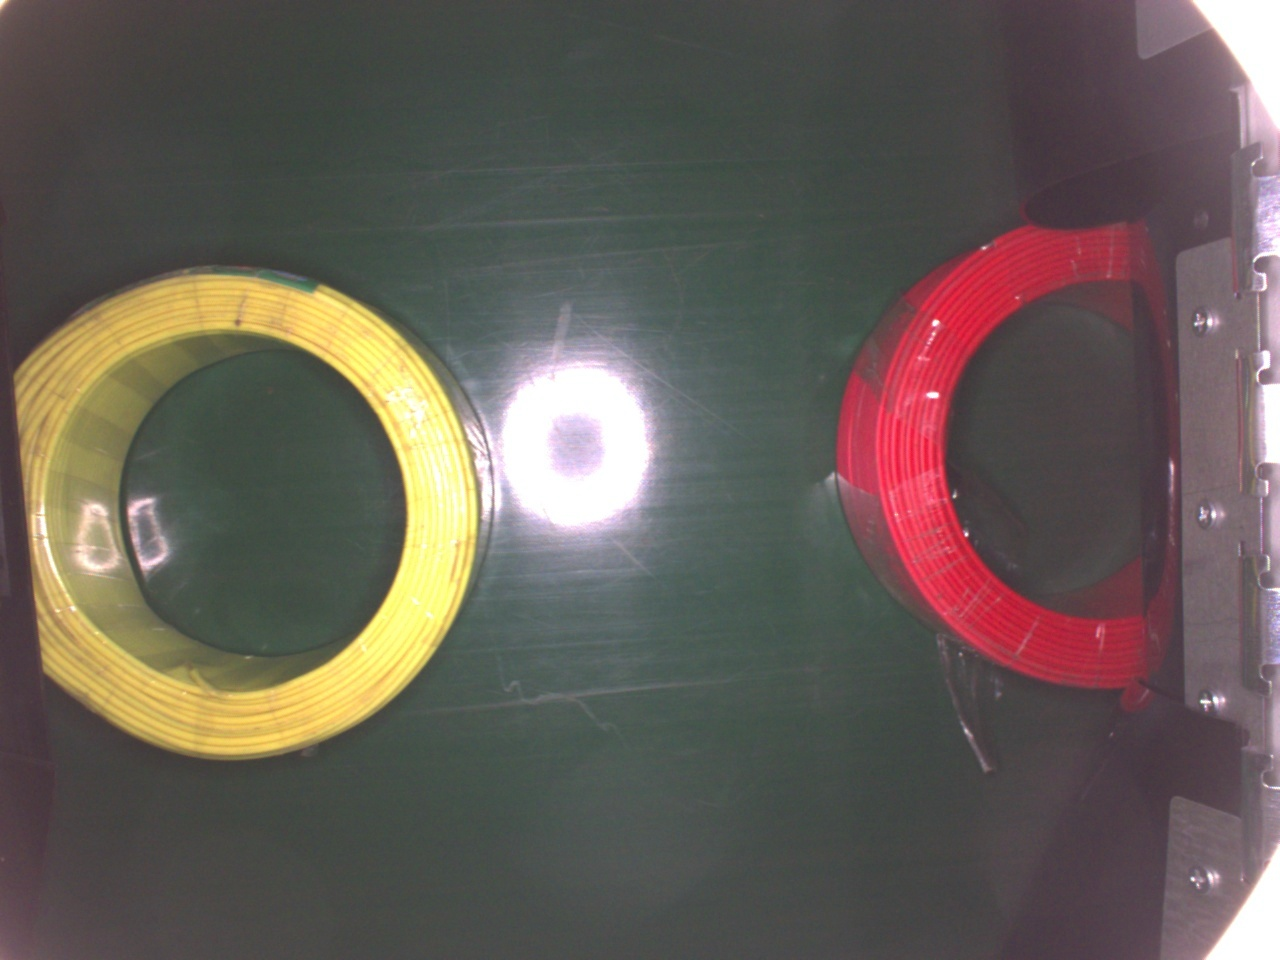red: (836, 220, 1154, 694)
yellow: (5, 261, 482, 767)
